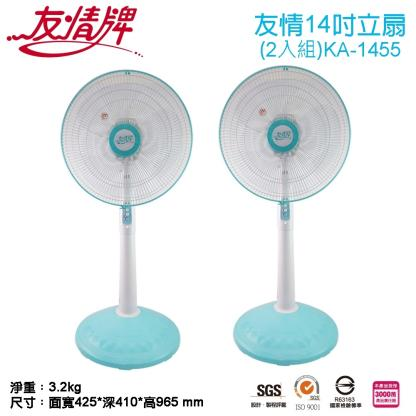fan: (216, 63, 356, 367), (59, 66, 197, 368)
